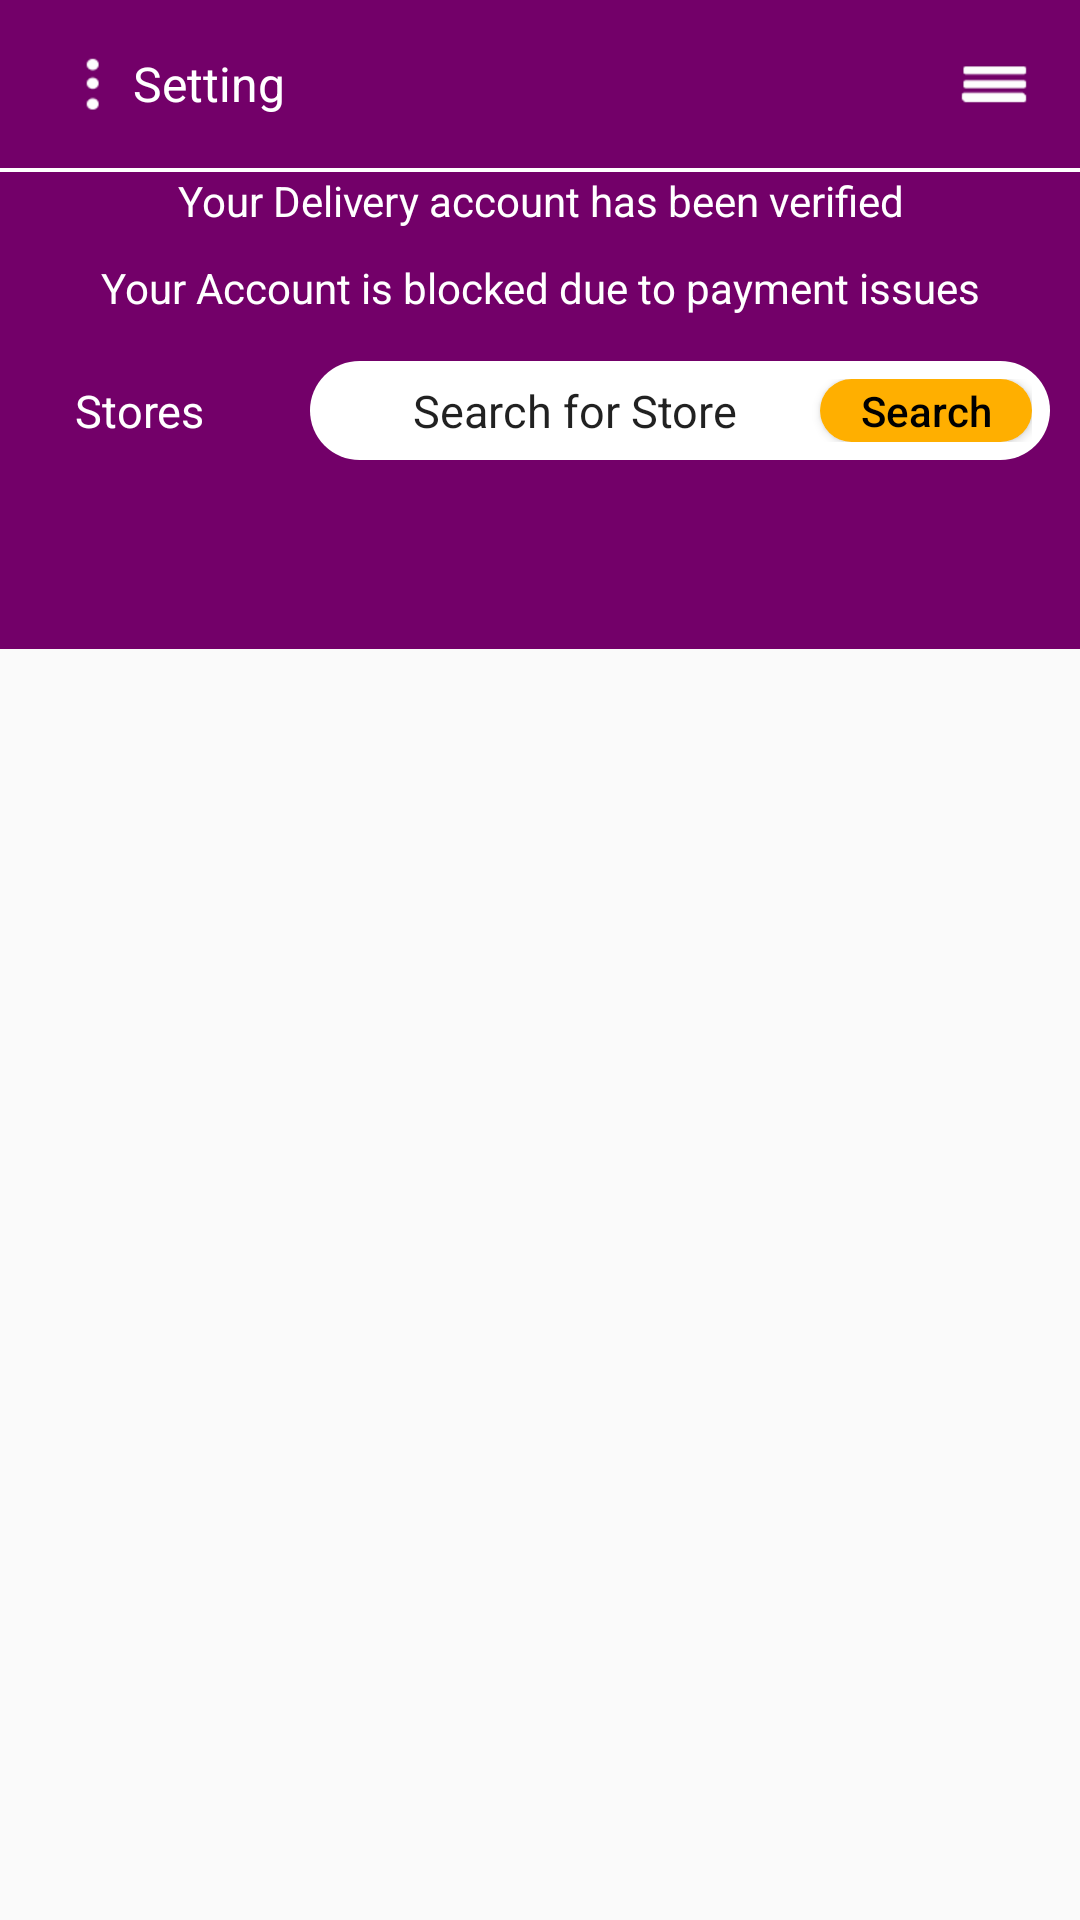

Named icons in this screenshot (1080px x 1920px) and their centers, (x=x, y=y):
menu: (x=994, y=84)
